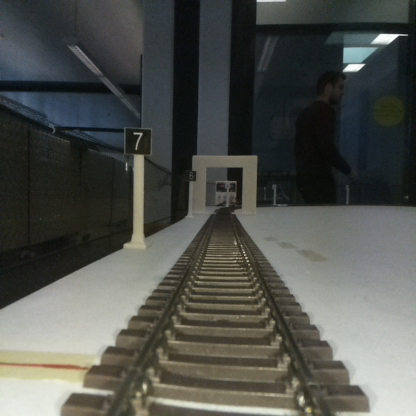black-info-6: (186, 170, 196, 217)
black-info-7: (124, 127, 151, 248)
